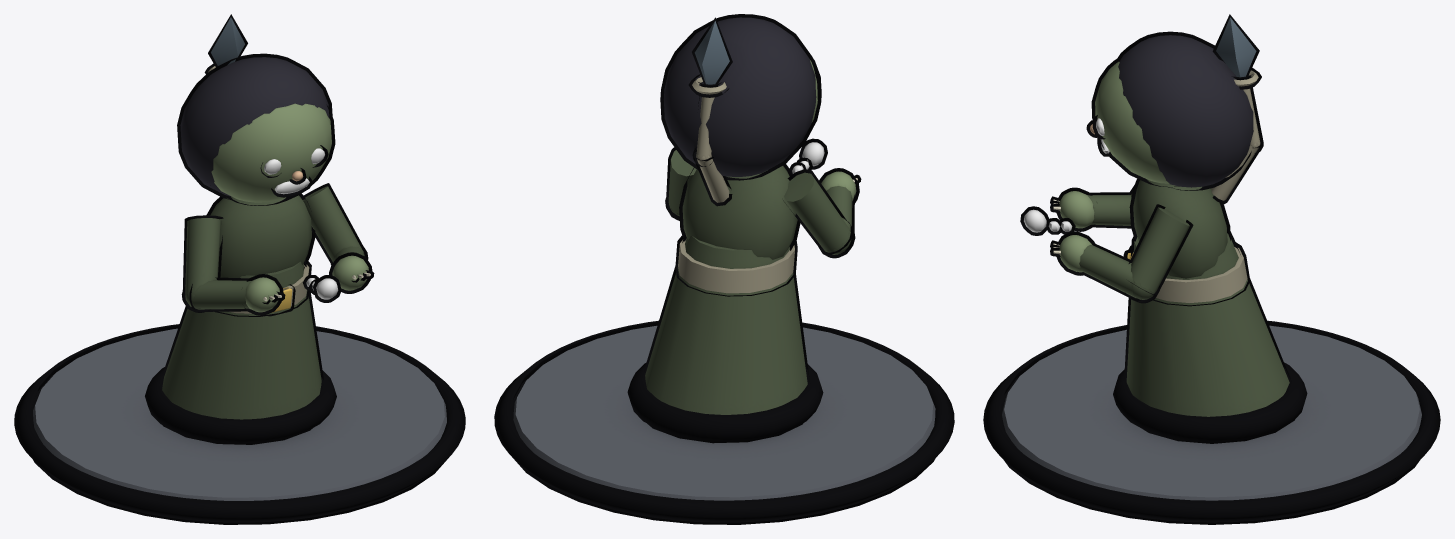
File: mana_leech.fbx
3 views of the same model, side by side, from view 1: azimuth 30°, elevation 25°; view 2: azimuth 150°, elevation 25°; view 3: azimuth 270°, elevation 25° (orthographic).
Parts seen in each view (by area): view 1: mana_leech; view 2: mana_leech; view 3: mana_leech.
Boxes of the visible parts, x1,y1,x2,y2 form: mana_leech: [14, 14, 465, 524]; mana_leech: [494, 14, 954, 524]; mana_leech: [983, 14, 1440, 524].
Bounding box in the file's own units: 1.58 × 1.6 × 1.58.
2 materials, 1 textured.
